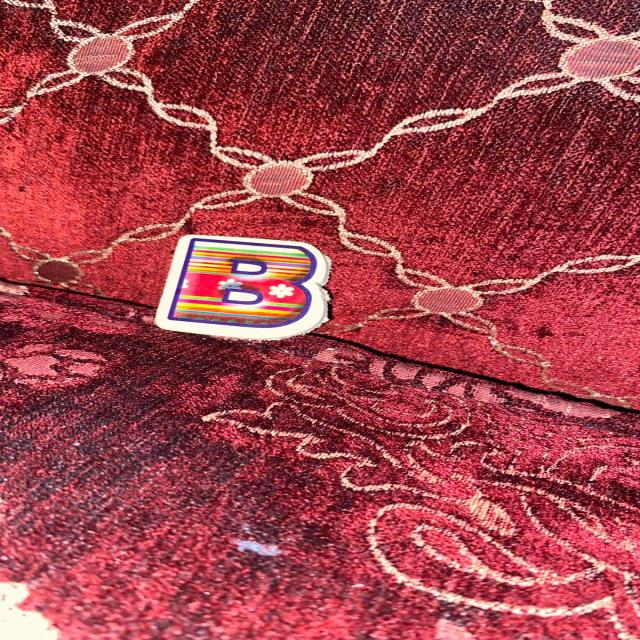B: (156, 234, 330, 340)
